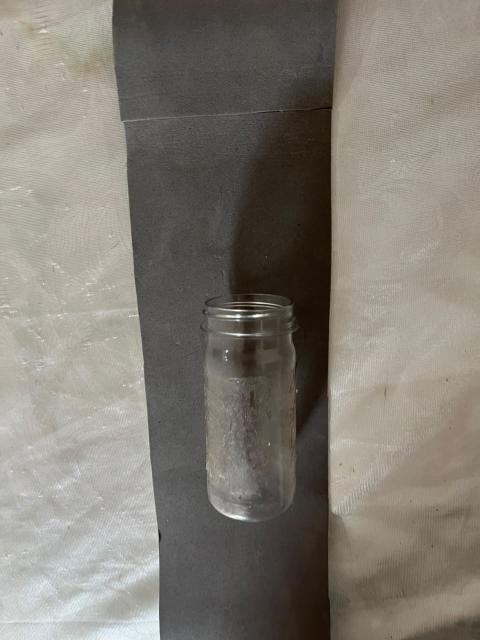PET: (173, 260, 335, 558)
